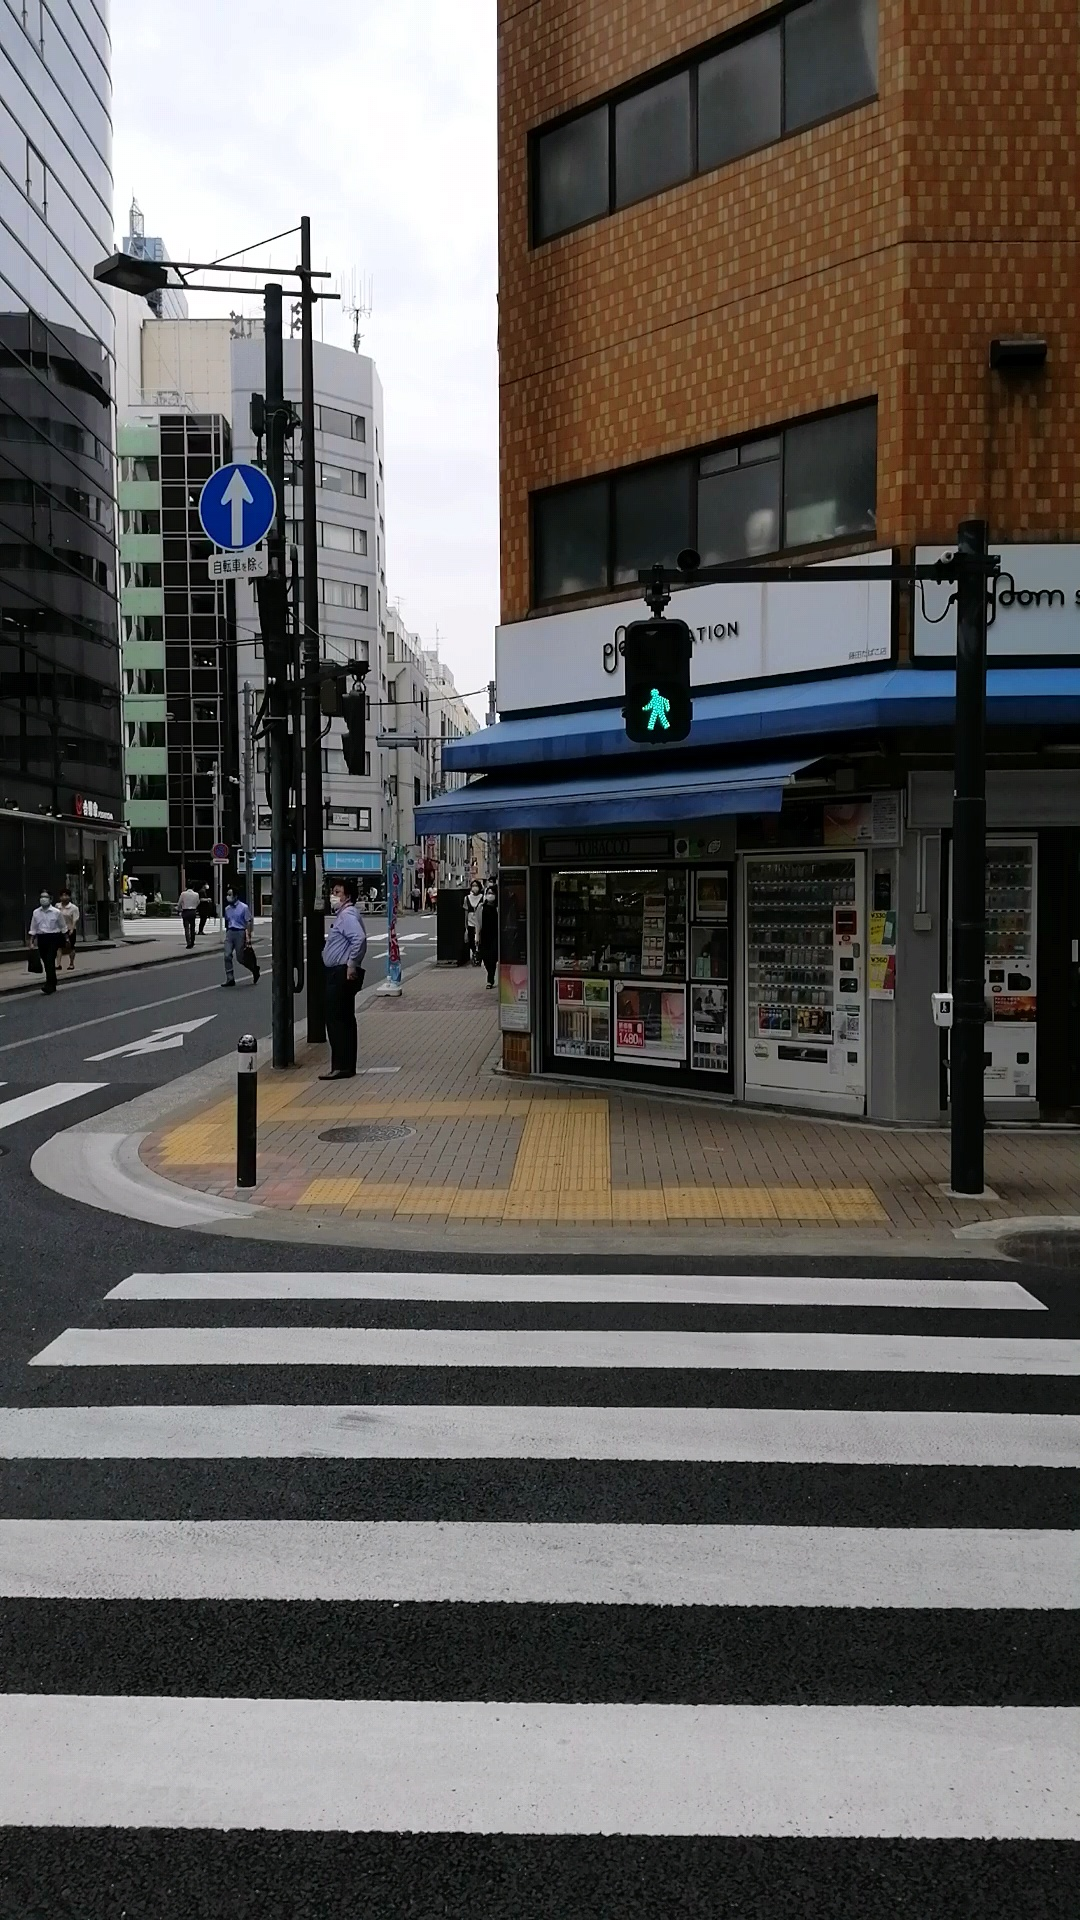green: (622, 620, 691, 740)
